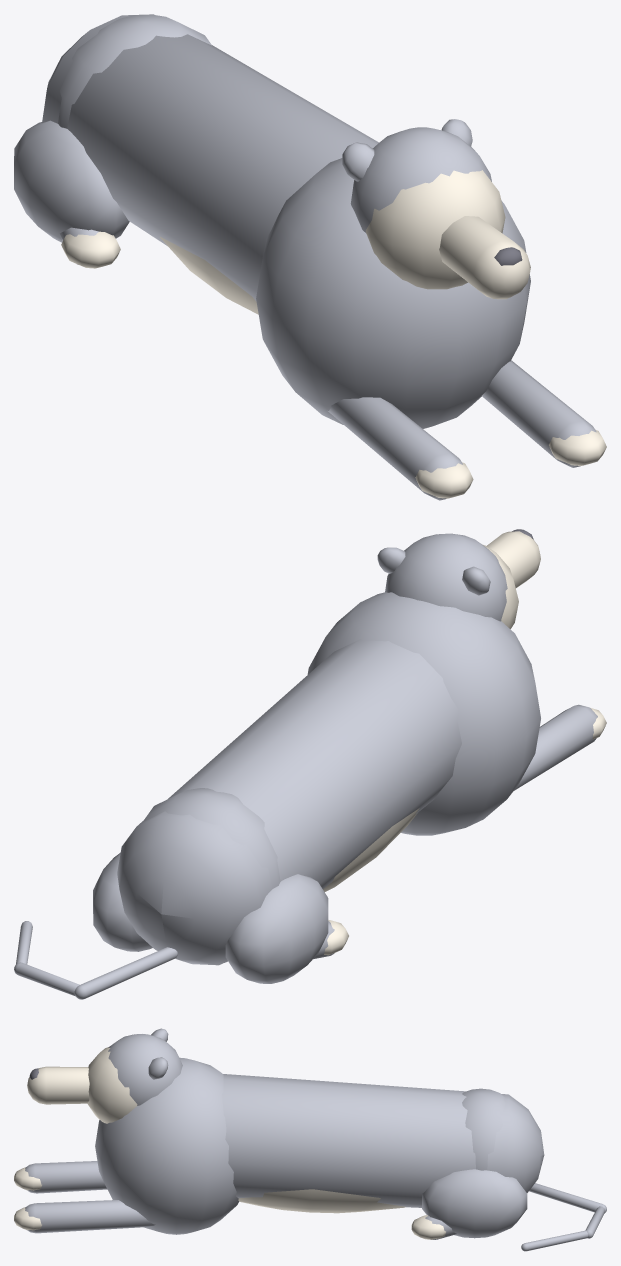
The model's file is companion-animals-and-pet-home-dog-greyhound-lie-02434032__20594.glb.
3 renders of one model, top to bottom at view 1: azimuth 30°, elevation 25°; view 2: azimuth 150°, elevation 25°; view 3: azimuth 270°, elevation 25°, orthographic. The views are drawn at different scales.
Visible parts, largest first — view 1: dog-greyhound-lie; view 2: dog-greyhound-lie; view 3: dog-greyhound-lie.
Boxes of the visible parts, x1,y1,x2,y2 form: dog-greyhound-lie: (14, 14, 606, 500); dog-greyhound-lie: (14, 529, 606, 999); dog-greyhound-lie: (14, 1028, 606, 1251).
Bounding box in the file's own units: 0.3318 × 0.3304 × 0.9345.
